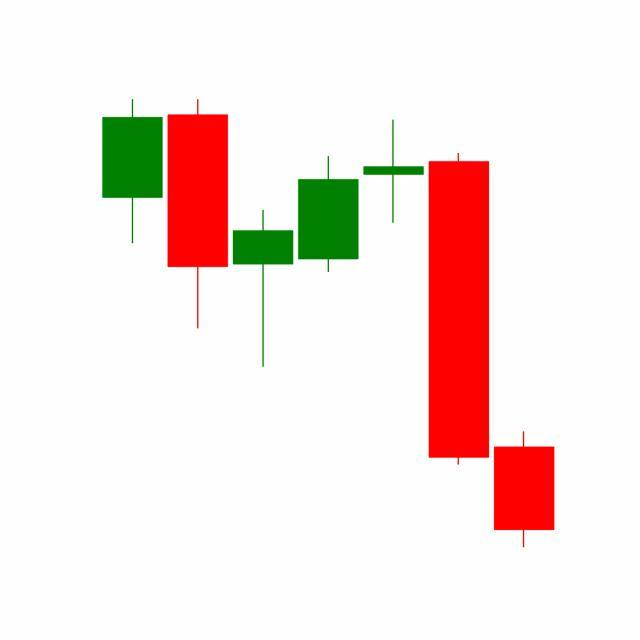Three Outside Up-Down: (360, 115, 556, 548)
